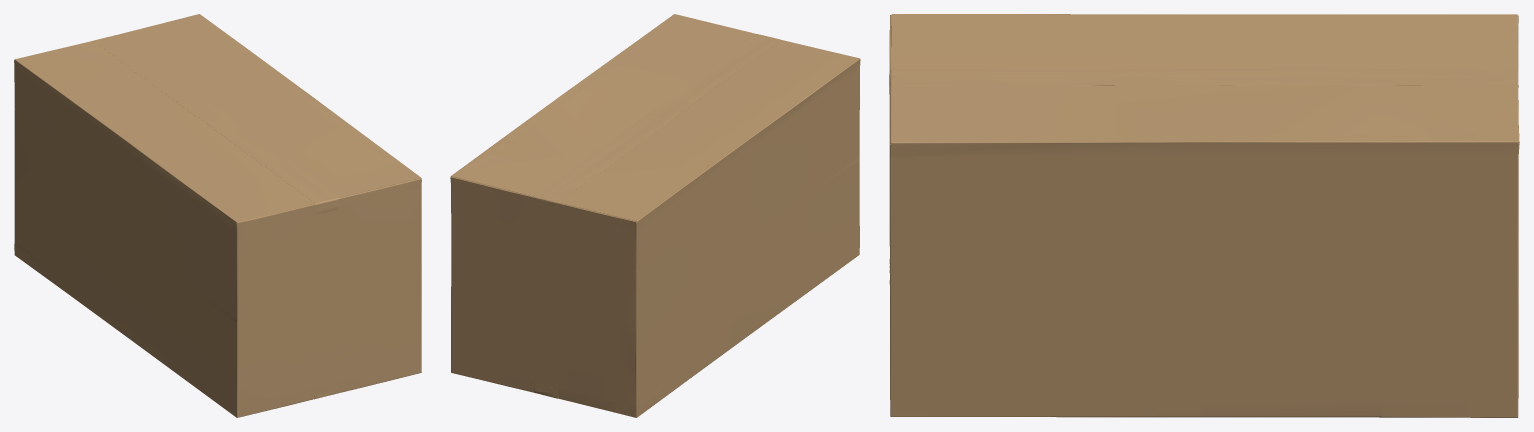
Rendered from box_corrugated_brown_b20.glb.
The picture shows the model from 3 angles, left to right: view 1: azimuth 30°, elevation 25°; view 2: azimuth 150°, elevation 25°; view 3: azimuth 270°, elevation 25°; orthographic projection. The views are drawn at different scales.
Size of the model in its own units: 0.299 by 0.302 by 0.6216.
